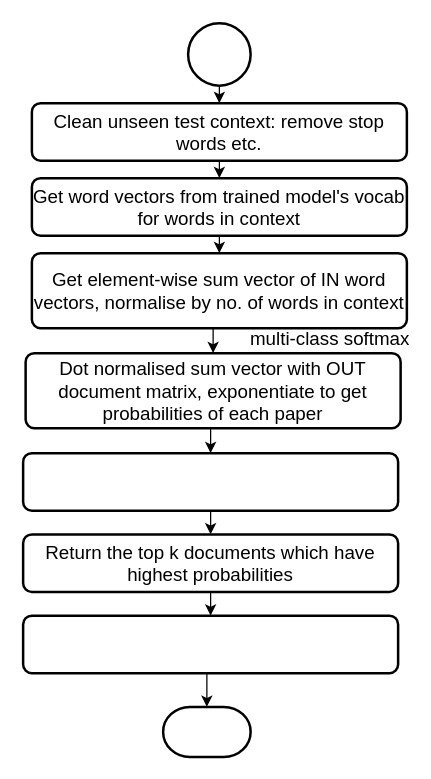
The diagram is 431 pixels wide and 779 high, and some of its shapes have lost their labels. The shapes that lost their labels are listed below. From the top down, each one's centre as x and y in pixels, then its label:
the point at 210,481: Sort probabilities in descending order
the point at 210,644: Get the metadata for the recommended documents from MAG
